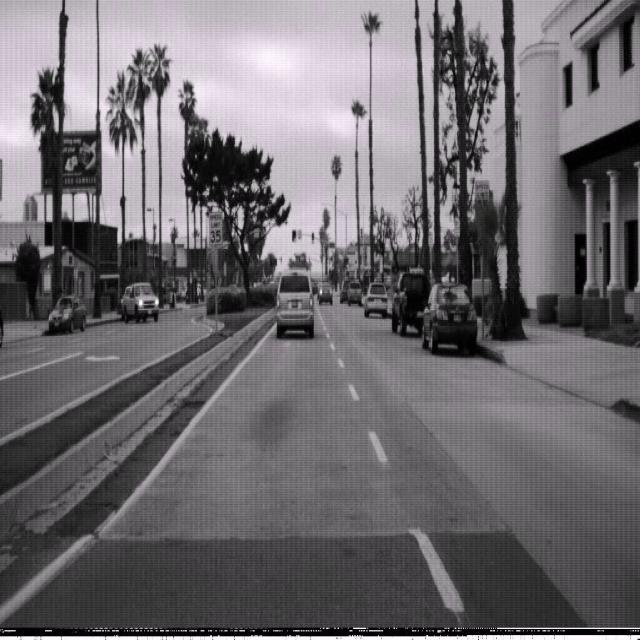speedLimit35: (208, 211, 222, 248)
